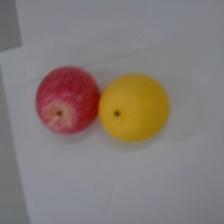red: (33, 59, 102, 141)
yellow: (97, 73, 170, 143)
